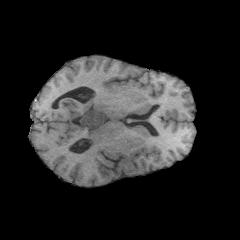glioma: (77, 103, 118, 147)
